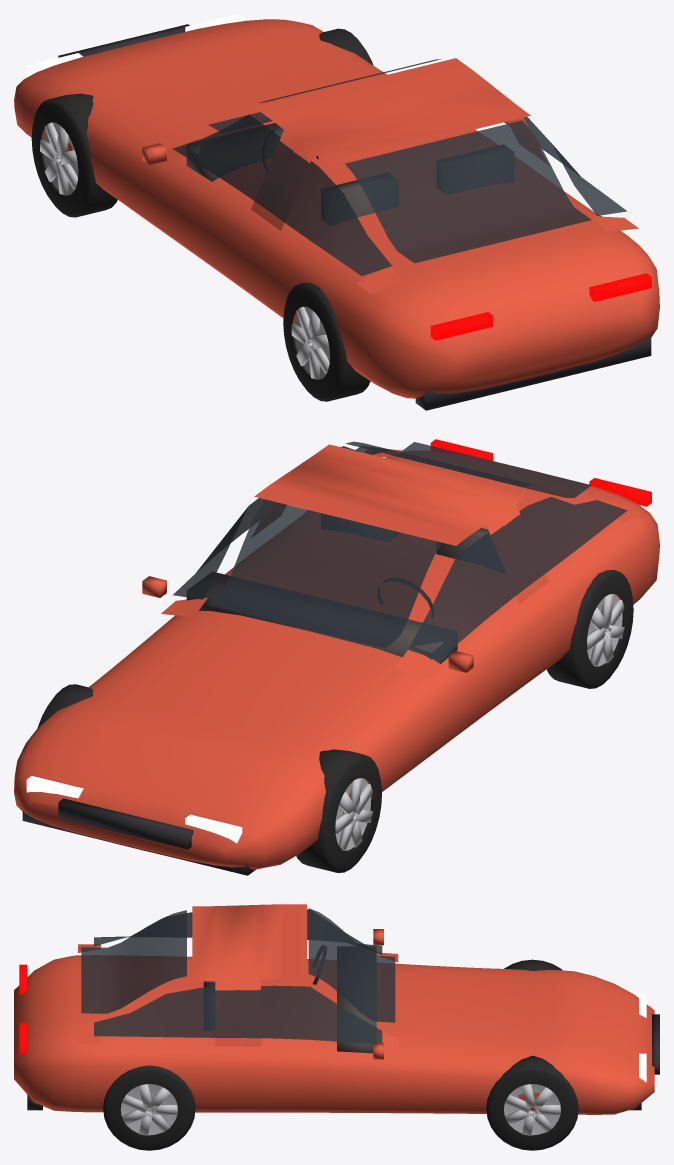
File: car05_solstice.glb
The picture shows the model from 3 angles, top to bottom: view 1: azimuth 30°, elevation 25°; view 2: azimuth 150°, elevation 25°; view 3: azimuth 270°, elevation 25°; orthographic projection. The views are drawn at different scales.
Visible parts, largest first — view 1: car05_solstice_Body, car05_solstice_GlassRear, car05_solstice_Cabin, car05_solstice_Glass, car05_solstice_Interior, car05_solstice_Wheel_FL, car05_solstice_Wheel_RL, car05_solstice_Lights_Rear, car05_solstice_Lights_Front, car05_solstice_Wheel_FR, car05_solstice_GlassFront; view 2: car05_solstice_Body, car05_solstice_GlassFront, car05_solstice_Cabin, car05_solstice_Glass, car05_solstice_Interior, car05_solstice_Wheel_FL, car05_solstice_Wheel_RL, car05_solstice_GlassRear, car05_solstice_Lights_Front, car05_solstice_Lights_Rear, car05_solstice_Wheel_FR; view 3: car05_solstice_Body, car05_solstice_Cabin, car05_solstice_Glass, car05_solstice_GlassRear, car05_solstice_Wheel_FR, car05_solstice_Wheel_RR, car05_solstice_GlassFront, car05_solstice_Interior, car05_solstice_Lights_Rear, car05_solstice_Wheel_FL, car05_solstice_Lights_Front.
Boxes of the visible parts, <box> form: car05_solstice_Body: <box>14,19,659,410</box>; car05_solstice_GlassRear: <box>345,120,591,263</box>; car05_solstice_Cabin: <box>167,58,638,293</box>; car05_solstice_Glass: <box>172,114,627,275</box>; car05_solstice_Interior: <box>186,123,513,225</box>; car05_solstice_Wheel_FL: <box>31,93,117,217</box>; car05_solstice_Wheel_RL: <box>283,282,370,401</box>; car05_solstice_Lights_Rear: <box>430,273,651,340</box>; car05_solstice_Lights_Front: <box>26,14,242,77</box>; car05_solstice_Wheel_FR: <box>319,28,373,65</box>; car05_solstice_GlassFront: <box>208,59,441,130</box>; car05_solstice_Body: <box>14,451,659,875</box>; car05_solstice_GlassFront: <box>208,499,442,648</box>; car05_solstice_Cabin: <box>161,444,638,678</box>; car05_solstice_Glass: <box>172,446,627,659</box>; car05_solstice_Interior: <box>186,513,504,663</box>; car05_solstice_Wheel_FL: <box>296,749,381,872</box>; car05_solstice_Wheel_RL: <box>546,570,633,688</box>; car05_solstice_GlassRear: <box>345,441,591,497</box>; car05_solstice_Lights_Front: <box>26,776,242,843</box>; car05_solstice_Lights_Rear: <box>430,439,651,506</box>; car05_solstice_Wheel_FR: <box>37,684,93,727</box>; car05_solstice_Body: <box>14,929,659,1114</box>; car05_solstice_Cabin: <box>78,904,398,1053</box>; car05_solstice_Glass: <box>94,909,382,1043</box>; car05_solstice_GlassRear: <box>81,910,186,1013</box>; car05_solstice_Wheel_FR: <box>486,1055,578,1150</box>; car05_solstice_Wheel_RR: <box>103,1065,195,1150</box>; car05_solstice_GlassFront: <box>308,908,395,1022</box>; car05_solstice_Interior: <box>203,946,376,1053</box>; car05_solstice_Lights_Rear: <box>19,964,27,1053</box>; car05_solstice_Wheel_FL: <box>504,959,562,970</box>; car05_solstice_Lights_Front: <box>639,994,646,1082</box>.
Size of what is drawn, in the model's own units: 2.16 by 1.3 by 4.89.
